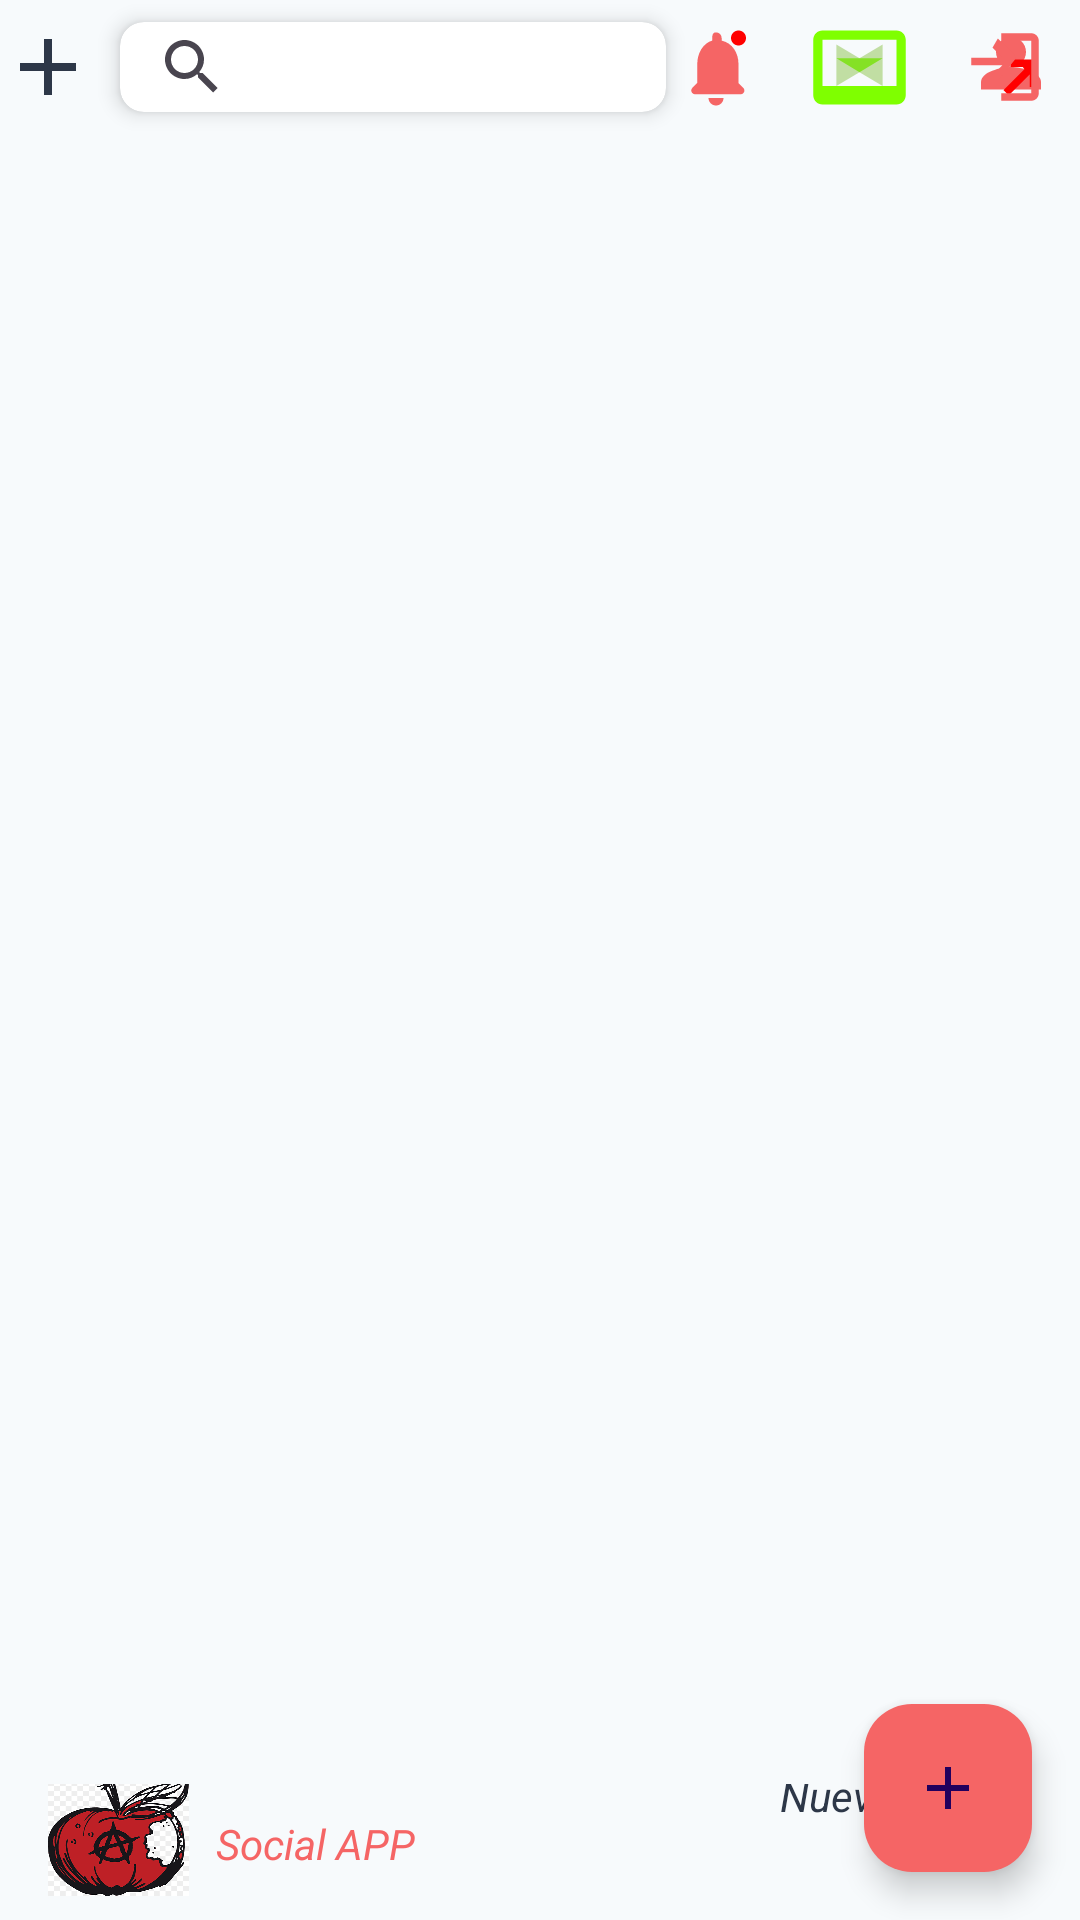

Named icons in this screenshot (1080px×1920px) and their bounding boxes, (x1, y1, x2, y2):
add: (20, 39, 76, 95), (864, 1704, 1032, 1872)
anarchys: (48, 1784, 189, 1896)
message: (813, 30, 906, 105)
notificacion: (651, 30, 746, 111)
